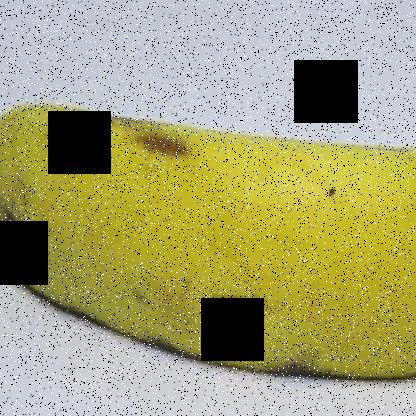freshripe: (0, 79, 415, 402)
